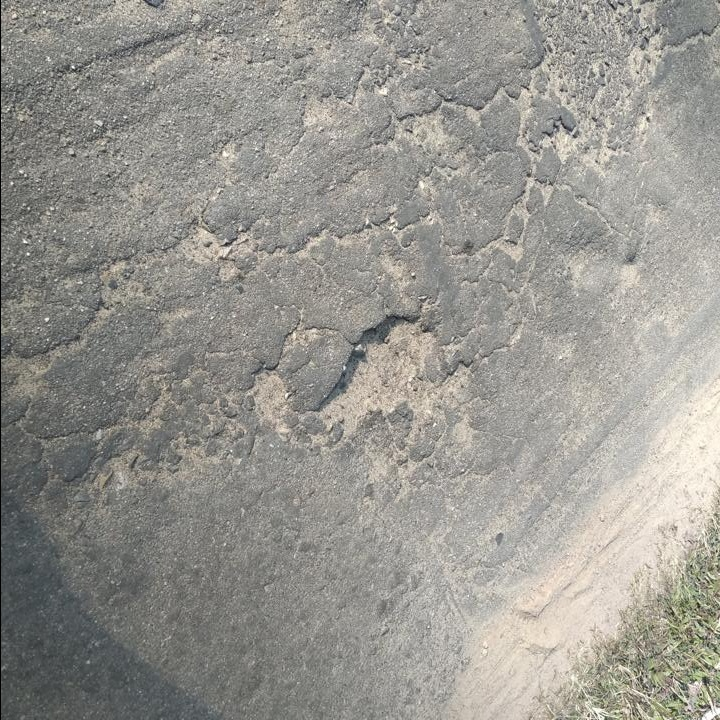pothole: (316, 307, 439, 443), (250, 362, 296, 431)
